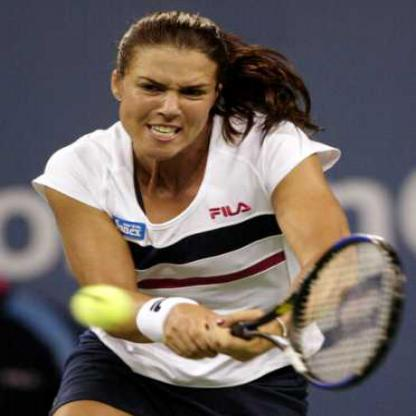face: (122, 23, 220, 161)
